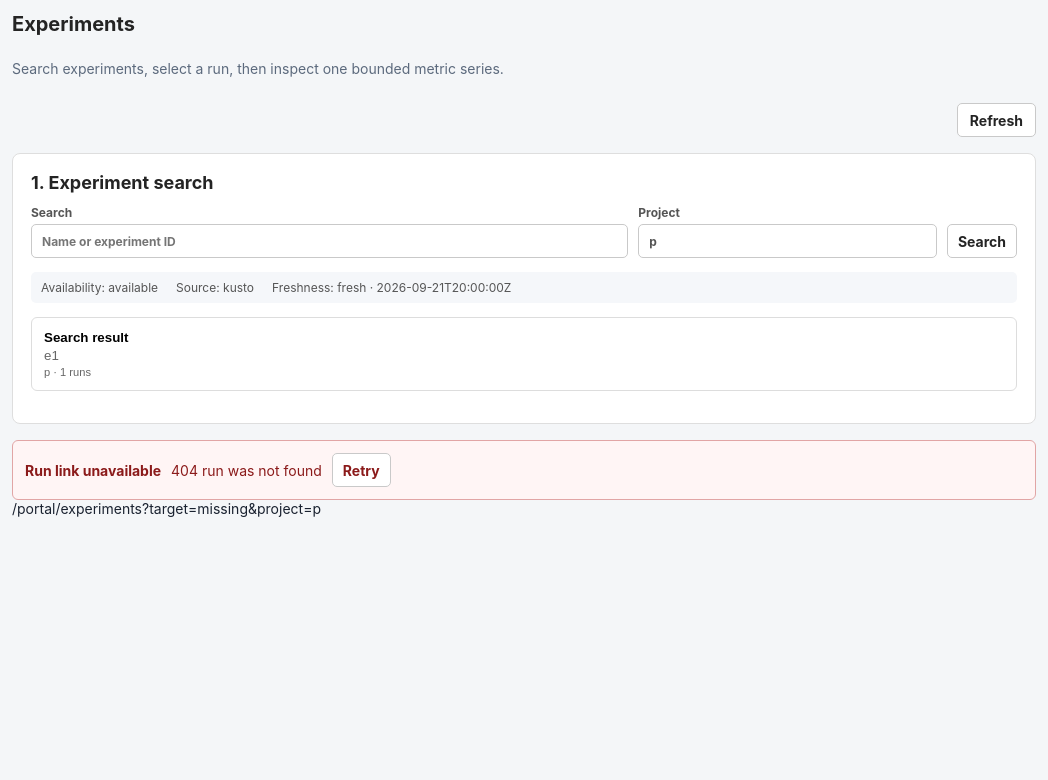
it: typed experiment dashboard › clears a failed legacy target when selecting a search result
Expected: the message shows "run was not found", [171,462,322,478]
What coordinates should you click on to do the following:
click the button "Search result e1 p · 1 runs"
I would click on:
 (86, 338)
Its box is [31,317,1017,391].
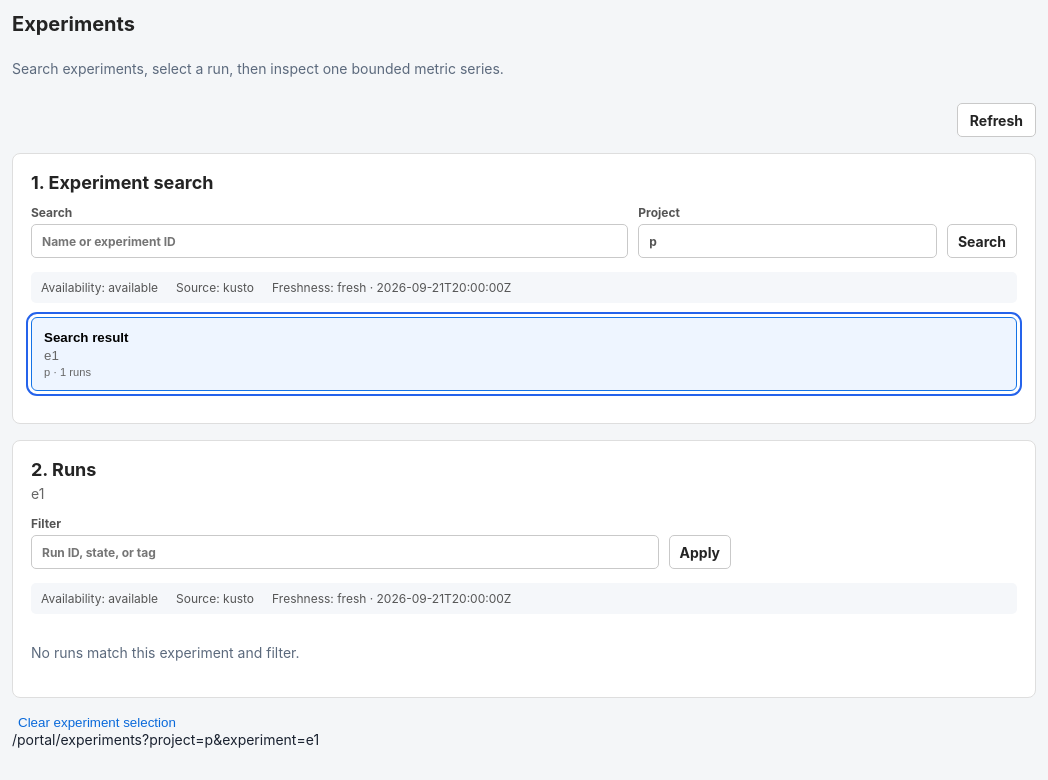
Expected: the text "No runs match this experiment and filter." is shown, [31,644,300,661]
Expected: the text named "location" shows "experiment=e1", [12,731,319,748]
Expected: the text labelled "location" no longer shows "target="
